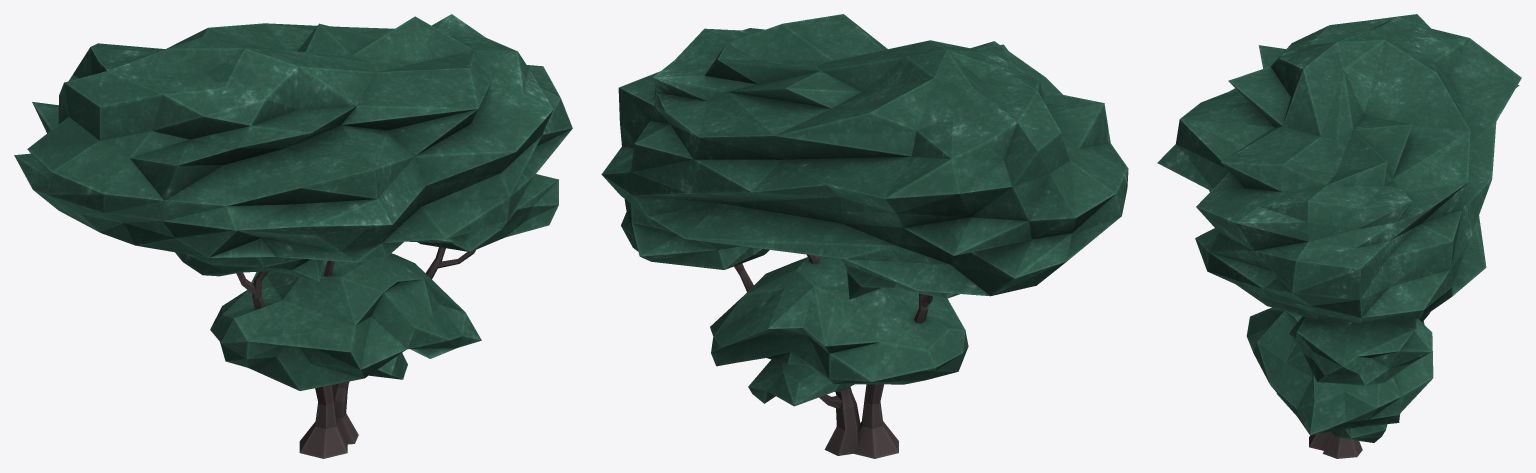
The model's file is c4a3c1c0-cc7f-4aaf-9342-78f1d4d0fcfe.glb.
3 renders of one model, left to right at view 1: azimuth 30°, elevation 25°; view 2: azimuth 150°, elevation 25°; view 3: azimuth 270°, elevation 25°, orthographic. The views are drawn at different scales.
Parts seen in each view (by area): view 1: MacassarTree_mesh; view 2: MacassarTree_mesh; view 3: MacassarTree_mesh.
Part boxes in pixels (x1=…): MacassarTree_mesh: x1=14, y1=14, x2=572, y2=458; MacassarTree_mesh: x1=601, y1=14, x2=1128, y2=458; MacassarTree_mesh: x1=1157, y1=14, x2=1521, y2=458.
Size of the model in its own units: 17.42 by 13.69 by 12.32.
1 material, 1 textured.
